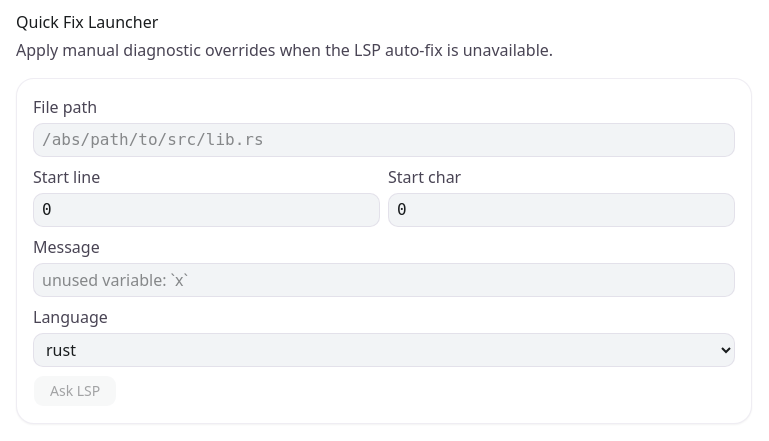
Test case: QuickFix — canSubmit gating › enables Ask LSP only when both file_path and message are non-blank
Type "/tmp/x.rs" into the field labelled "File path" at [384, 140], box [33,123,735,157]
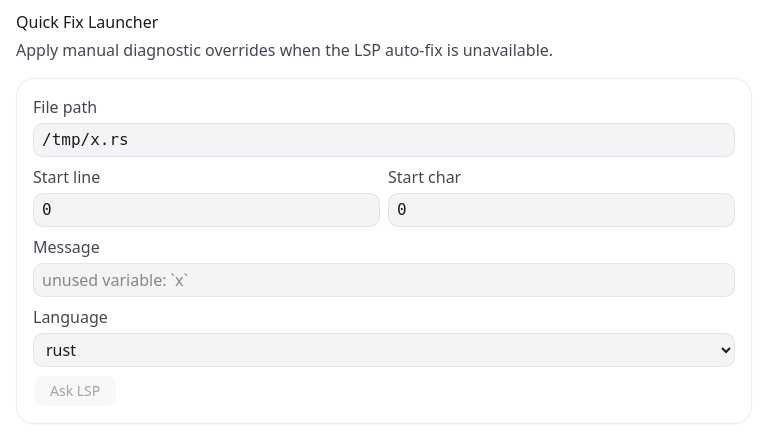
Type "unused" into the field labelled "Message" at [384, 280], box [33,263,735,297]
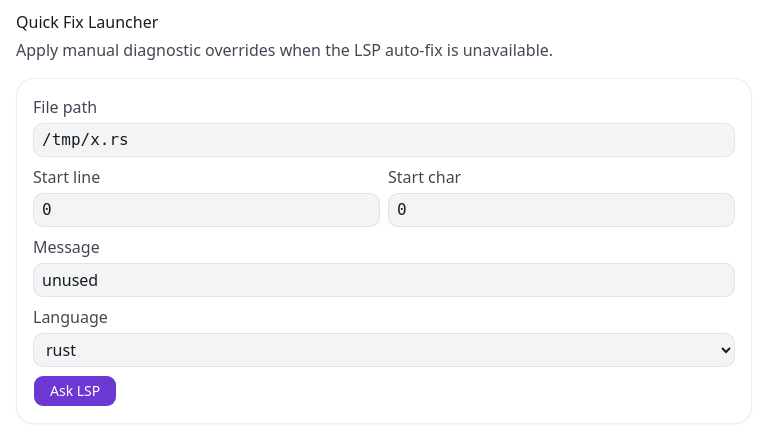
Check: the button "Ask LSP" is enabled, box [33,375,117,407]
